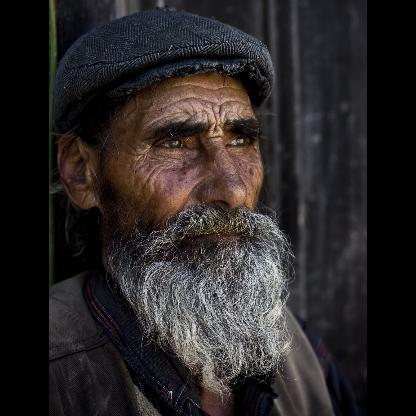Male: (57, 79, 287, 378)
